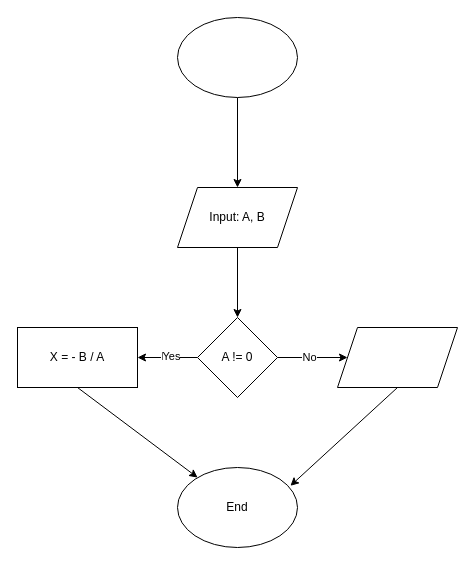
Image size: 475x565. Some labels were removed from this diagram. The shapes that lost their labels are listed below. From the top down, each one's centre as x and y in pixels, then its label:
the point at 237,57: Begin
the point at 397,357: Output: Няма решение
